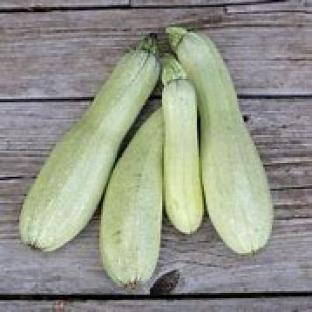Zucchini: (20, 37, 160, 251), (166, 27, 273, 254), (100, 110, 163, 287), (163, 56, 203, 233)
